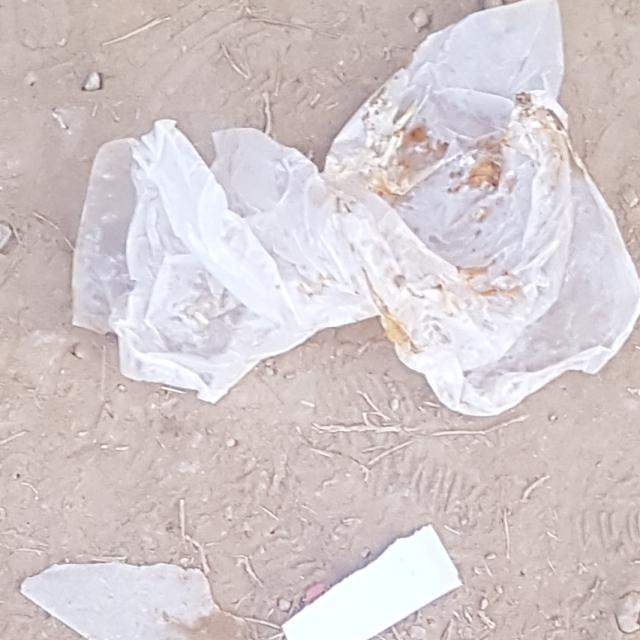general: (70, 0, 638, 416)
